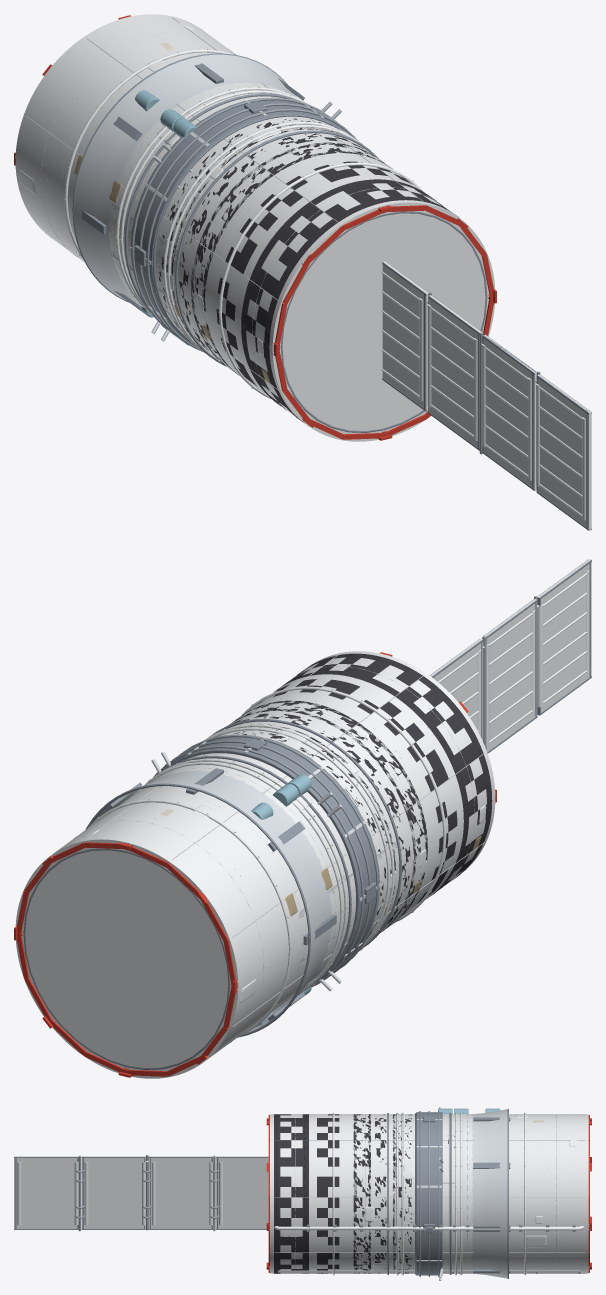
Rendered from ship-modules.glb.
The picture shows the model from 3 angles, top to bottom: view 1: azimuth 30°, elevation 25°; view 2: azimuth 150°, elevation 25°; view 3: azimuth 270°, elevation 25°; orthographic projection. The views are drawn at different scales.
Parts seen in each view (by area): view 1: tank_hull (×3), booster_casing, module:tank-12-main, panel5, panel4, module:booster-standard, armor_hull, panel3, module:tank-6-main, panel2, rcs_red_box_truss, module:armor-standard (+7 smaller); view 2: tank_hull (×3), module:tank-12-main, booster_casing, armor_hull, panel4, panel5, module:tank-6-main, module:booster-standard, rcs_red_box_truss, module:armor-standard, tank_surface_panels (×2), anchorpanel-hinge4 (+4 smaller); view 3: tank_hull (×3), booster_casing, panel5, panel3, panel4, module:tank-12-main, armor_hull, panel2, module:tank-6-main, module:booster-standard, cryo_feedline (×2), tank_surface_panels (×2) (+10 smaller).
Boxes of the visible parts, x1,y1,x2,y2 form: tank_hull (×3): (15,14,495,441); booster_casing: (72,53,314,306); module:tank-12-main: (26,17,487,432); panel5: (538,374,591,530); panel4: (483,334,536,490); module:booster-standard: (72,53,378,366); armor_hull: (131,97,350,346); panel3: (429,295,482,448); module:tank-6-main: (117,83,392,375); panel2: (382,261,428,411); rcs_red_box_truss: (14,15,496,440); module:armor-standard: (130,97,356,351); tank_hull (×3): (15,651,495,1078); module:tank-12-main: (23,654,491,1069); booster_casing: (85,721,381,1037); armor_hull: (161,734,379,983); panel4: (484,599,537,751); panel5: (537,559,591,715); module:tank-6-main: (124,700,427,1005); module:booster-standard: (85,719,402,1037); rcs_red_box_truss: (14,652,496,1077); module:armor-standard: (154,734,380,987); tank_surface_panels (×2): (83,728,486,1002); anchorpanel-hinge4: (482,610,535,748); tank_hull (×3): (270,1114,588,1273); booster_casing: (389,1109,507,1278); panel5: (14,1156,78,1228); panel3: (148,1156,212,1228); panel4: (81,1156,145,1228); module:tank-12-main: (273,1108,585,1275); armor_hull: (416,1112,442,1275); panel2: (215,1156,268,1228); module:tank-6-main: (353,1108,493,1275); module:booster-standard: (387,1109,510,1278); cryo_feedline (×2): (274,1226,584,1230); tank_surface_panels (×2): (364,1114,577,1273).
Size of the model in its own units: 6.45 by 6.42 by 21.75.
